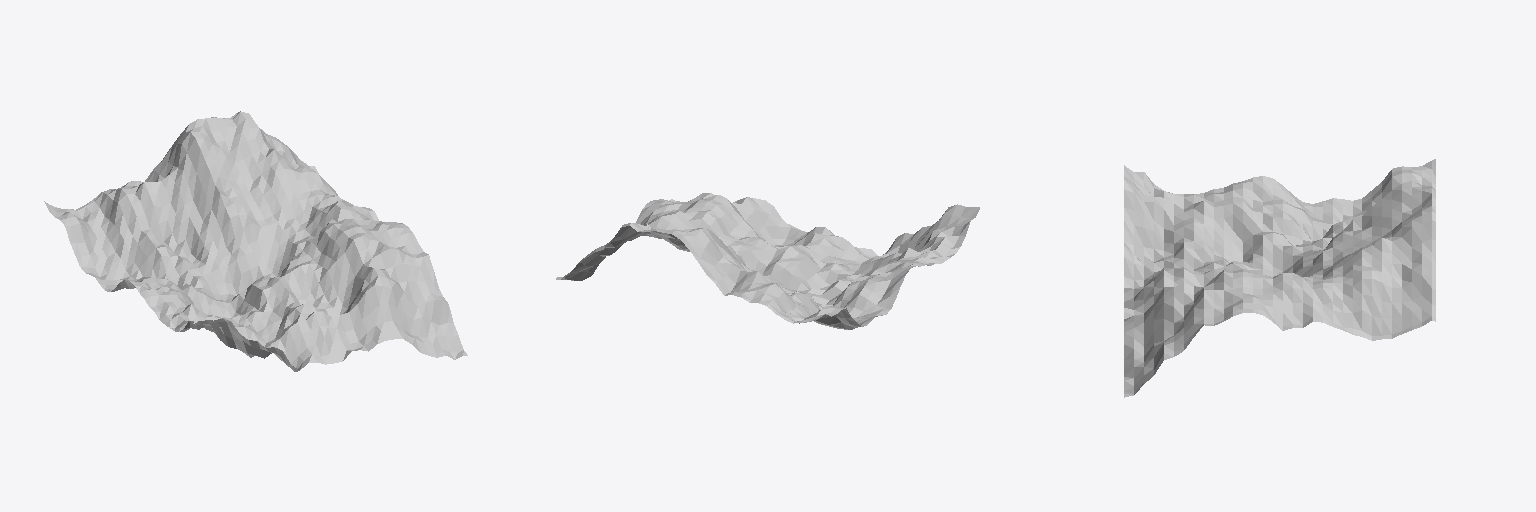
Rendered from terrain_-2_-3.obj.
The picture shows the model from 3 angles: view 1: azimuth 30°, elevation 25°; view 2: azimuth 150°, elevation 25°; view 3: azimuth 270°, elevation 25°; orthographic projection.
Parts seen in each view (by area): view 1: terrain_-2_-3_Plane.067; view 2: terrain_-2_-3_Plane.067; view 3: terrain_-2_-3_Plane.067.
Part boxes in pixels (bbox=[...]): terrain_-2_-3_Plane.067: bbox=[44, 111, 467, 371]; terrain_-2_-3_Plane.067: bbox=[556, 193, 979, 329]; terrain_-2_-3_Plane.067: bbox=[1124, 159, 1435, 397].
Bounding box in the file's own units: 32 × 17.41 × 32.